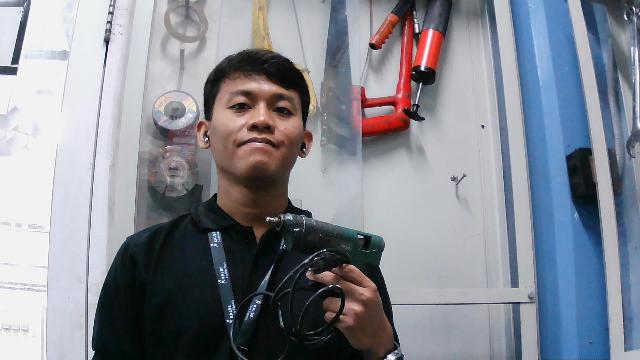gun_lem: (252, 211, 389, 312)
